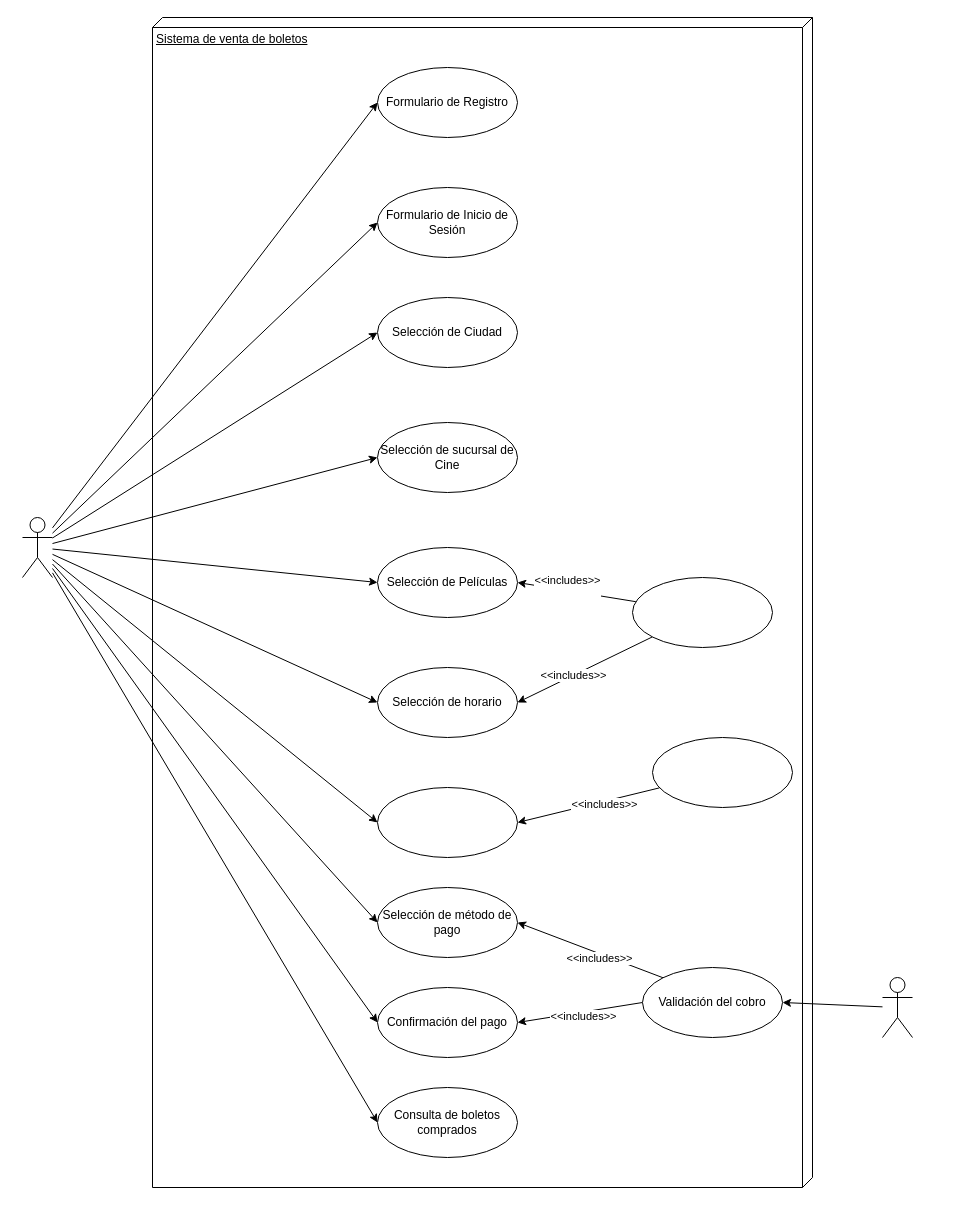
Some shapes in this 965 by 1205 pixel diagram are drawn without their labels. The shapes that lost their labels are listed below. From the top down, each one's centre as x and y in pixels, then its label:
the point at 37,547: Usuario
the point at 702,612: Validación de la cartelera disponible
the point at 722,772: Validación del estado del asiento
the point at 447,822: Selección de asiento
the point at 897,1007: Entidad Financiera
